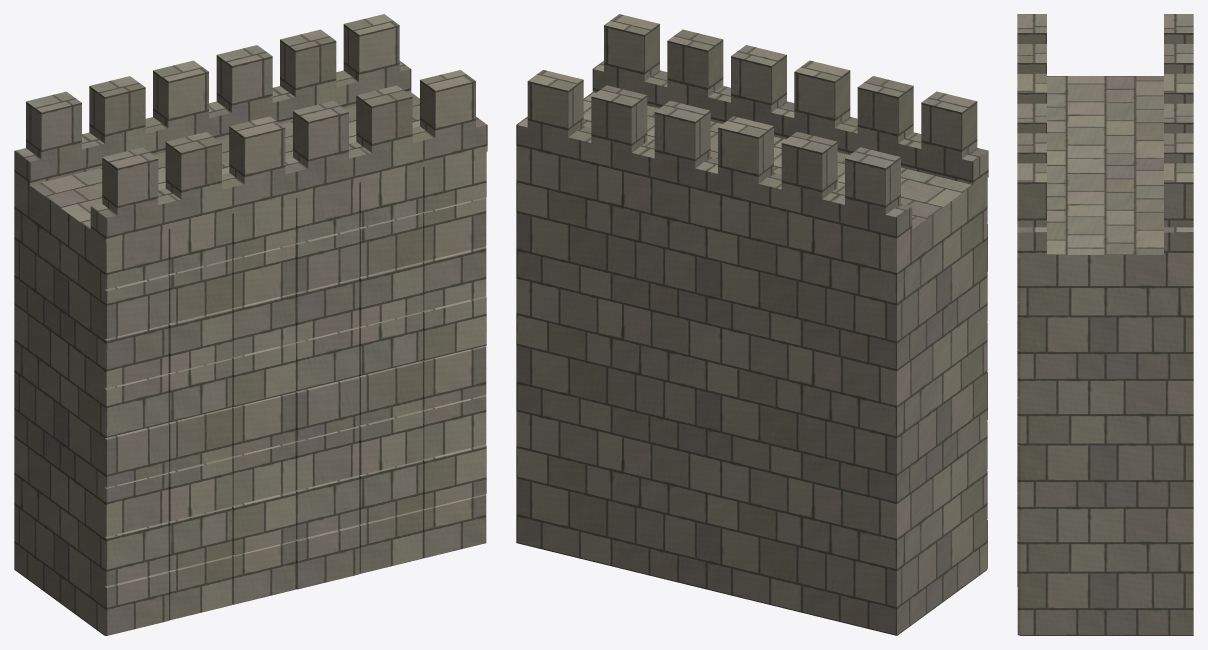
Rendered from Furn_CastleWall2.fbx.
3 views of the same model, side by side, from view 1: azimuth 30°, elevation 25°; view 2: azimuth 150°, elevation 25°; view 3: azimuth 270°, elevation 25° (orthographic). The views are drawn at different scales.
Parts seen in each view (by area): view 1: Furn_CastleWall2; view 2: Furn_CastleWall2; view 3: Furn_CastleWall2.
Boxes of the visible parts, x1,y1,x2,y2 form: Furn_CastleWall2: (14, 14, 487, 635); Furn_CastleWall2: (516, 14, 988, 635); Furn_CastleWall2: (1017, 14, 1193, 635).
Size of the model in its own units: 6 by 7 by 2.5.
